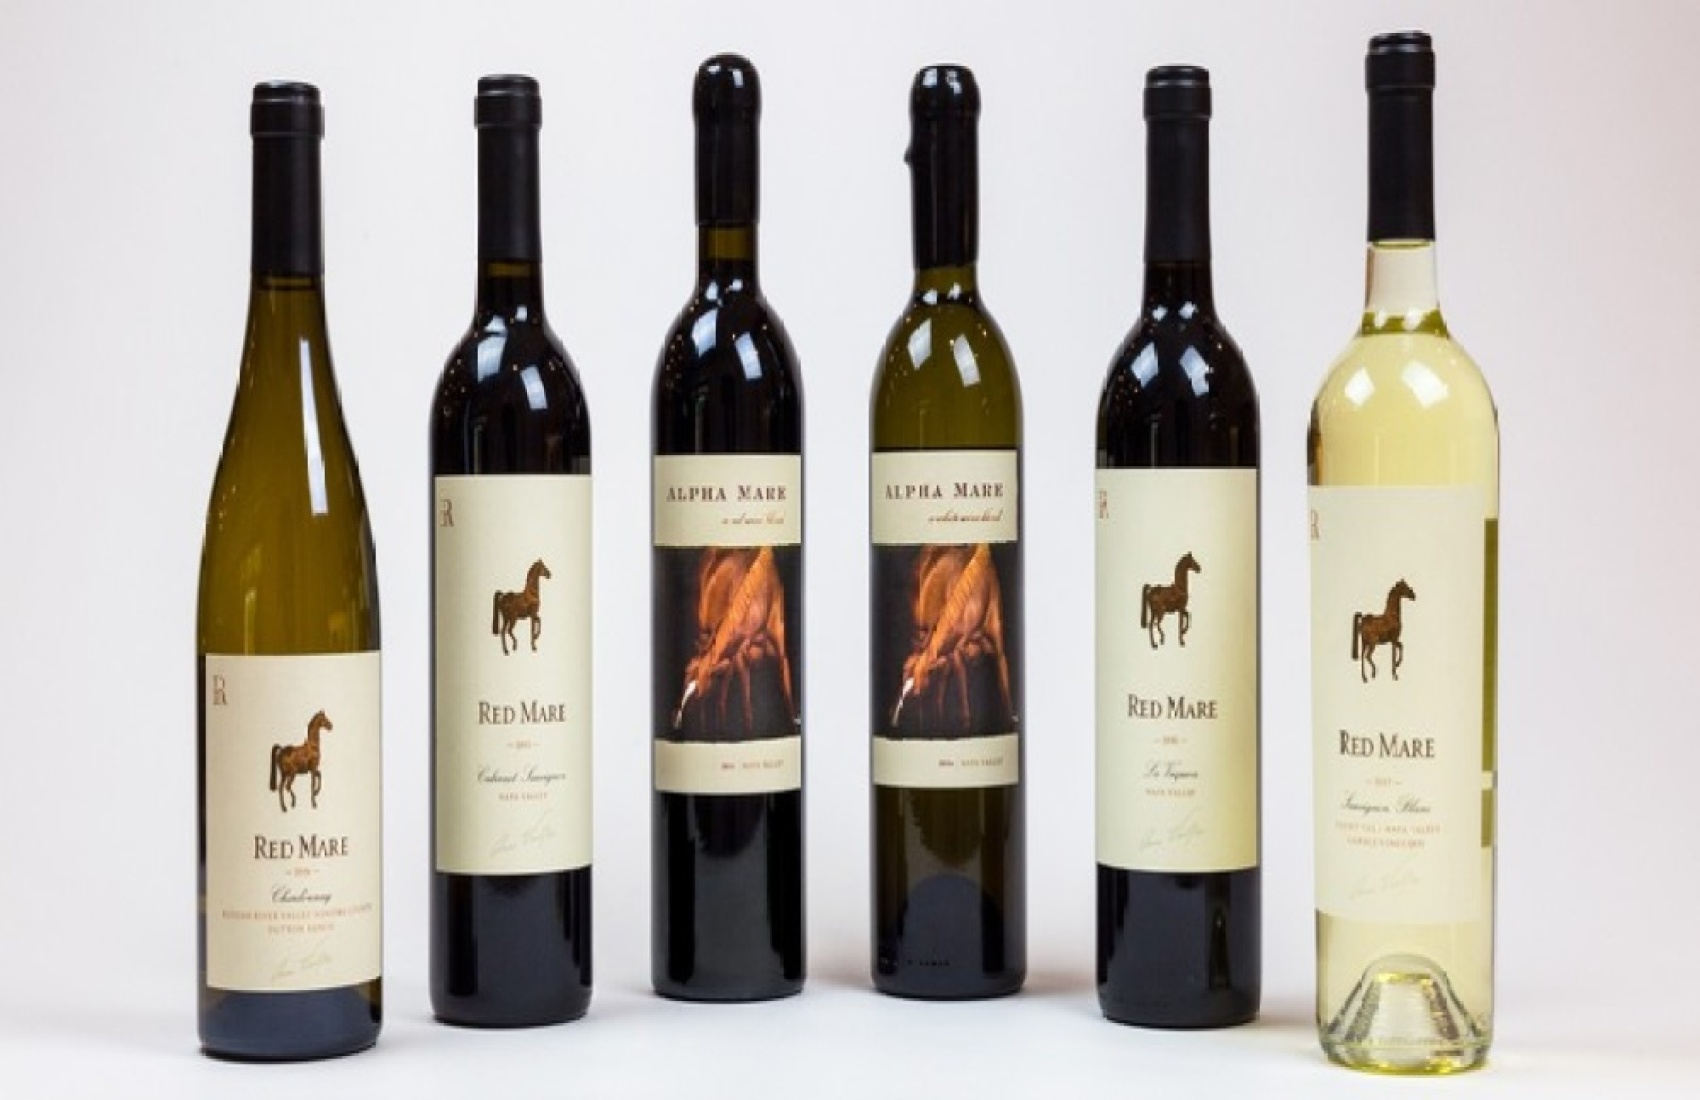wine: (199, 71, 380, 1042), (1094, 55, 1260, 1019), (430, 67, 596, 1031), (646, 48, 812, 1012), (862, 35, 1028, 998), (1328, 100, 1494, 1064)
